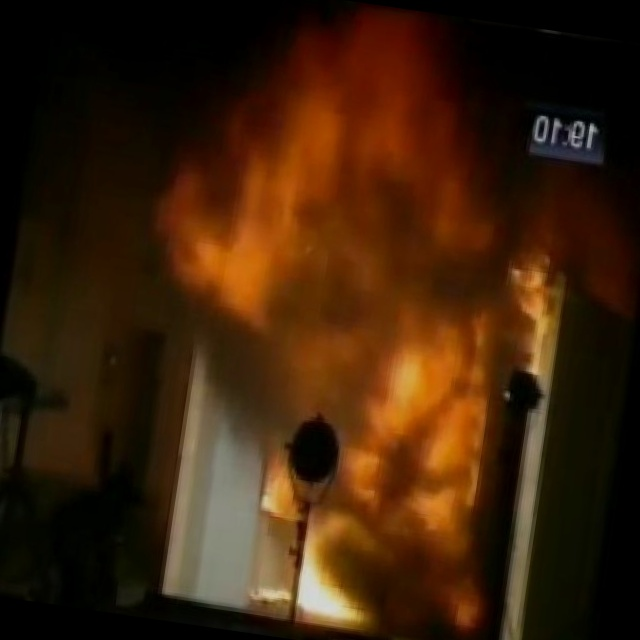fire: (183, 1, 559, 509)
